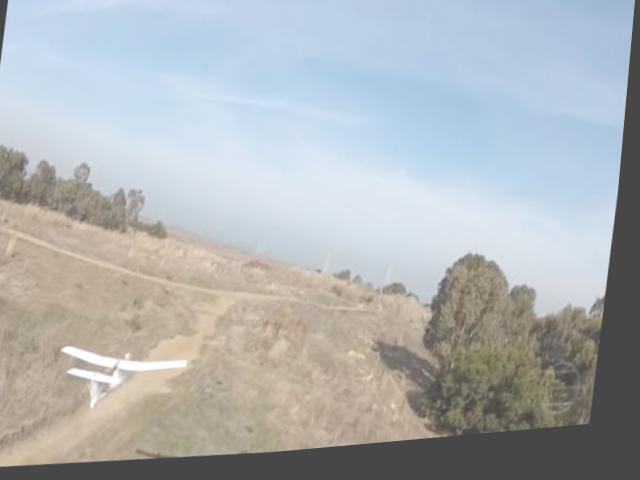uav: (58, 330, 201, 423)
